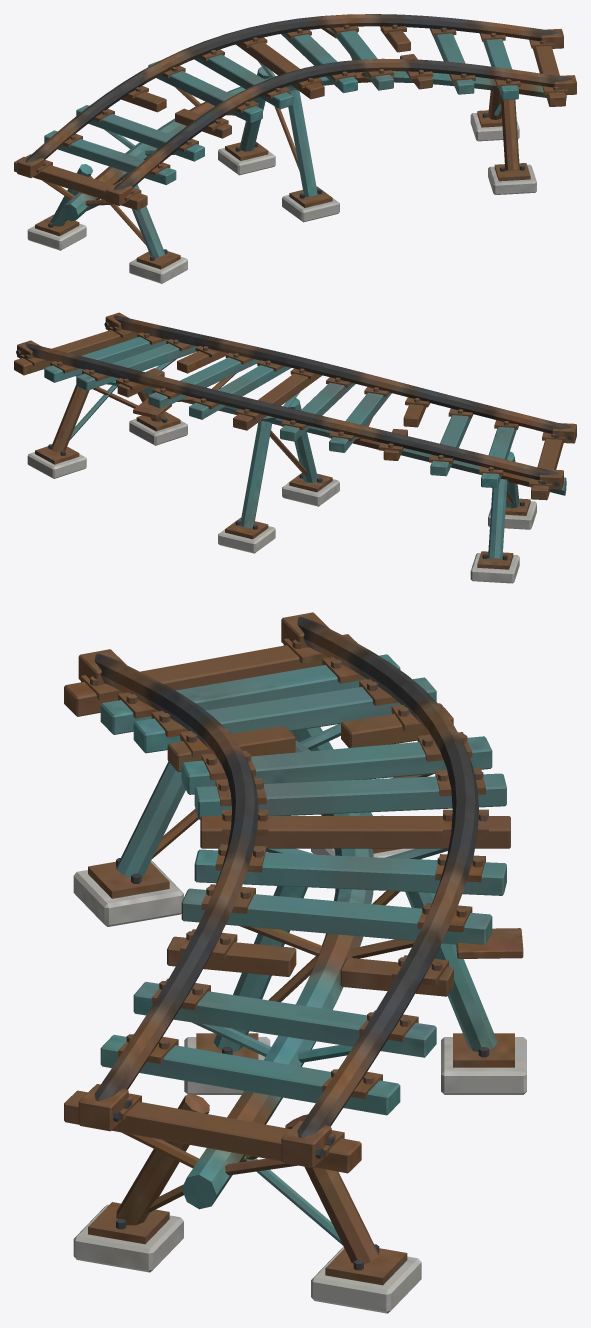
Rendered from CE05_coaster_track_piece_v2.glb.
The picture shows the model from 3 angles, top to bottom: view 1: azimuth 30°, elevation 25°; view 2: azimuth 150°, elevation 25°; view 3: azimuth 270°, elevation 25°; orthographic projection. The views are drawn at different scales.
Parts seen in each view (by area): view 1: Left running rail; view 2: Left running rail; view 3: Left running rail.
Boxes of the visible parts, x1,y1,x2,y2 form: Left running rail: (14,14,576,283); Left running rail: (14,312,576,583); Left running rail: (64,612,526,1313).
Bounding box in the file's own units: 6 × 1.47 × 2.21.
Materials: 4 (4 with a texture image).
